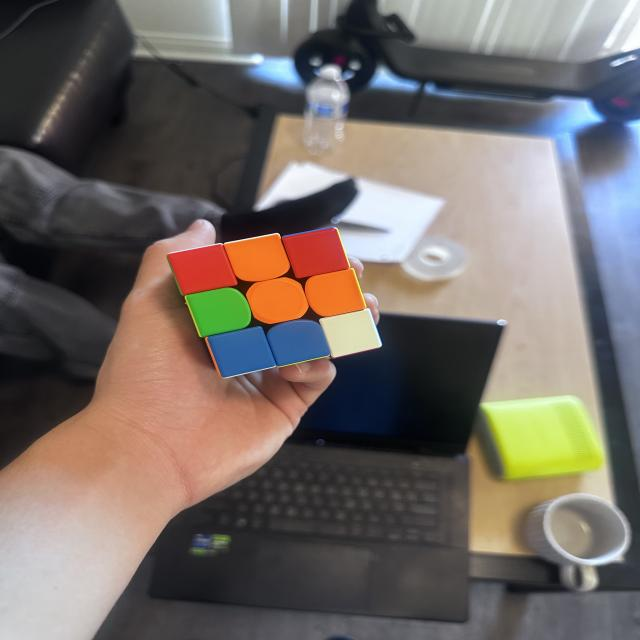sticker: (165, 242, 238, 298), (280, 225, 351, 280), (205, 325, 276, 379), (184, 287, 252, 339), (317, 308, 384, 359), (265, 318, 332, 369), (223, 233, 290, 283), (303, 268, 367, 318), (246, 277, 308, 326)
